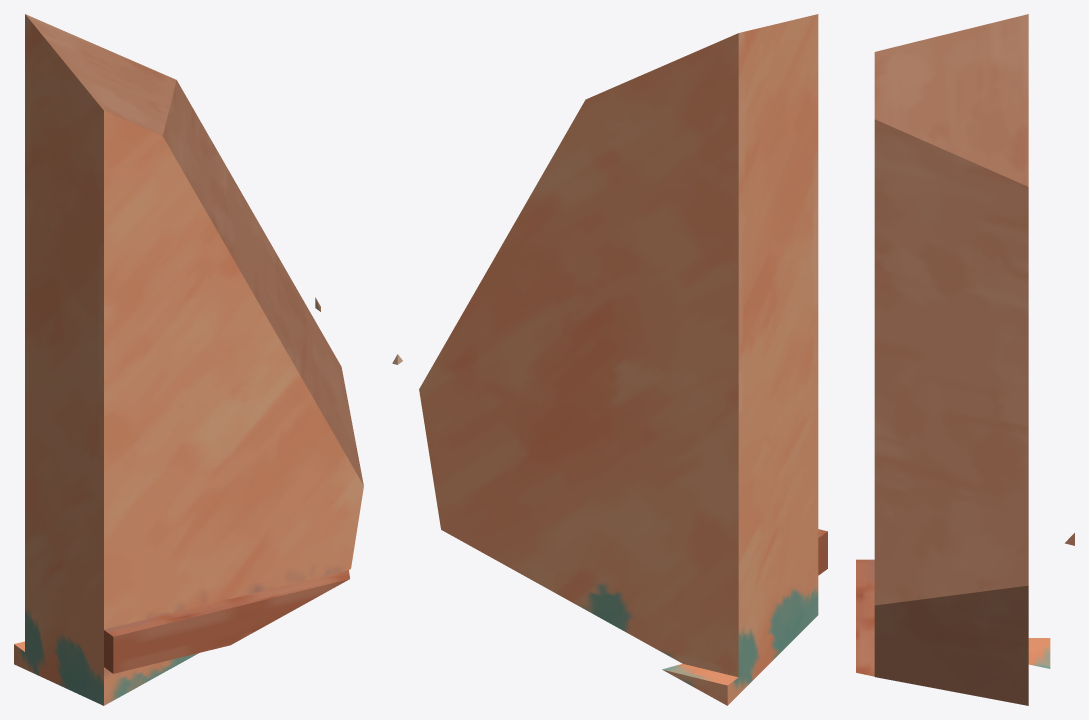
File: wall2_shutter_s05.fbx
3 renders of one model, left to right at view 1: azimuth 30°, elevation 25°; view 2: azimuth 150°, elevation 25°; view 3: azimuth 270°, elevation 25°, orthographic. The views are drawn at different scales.
Parts seen in each view (by area): view 1: wall2_shutter_s05; view 2: wall2_shutter_s05; view 3: wall2_shutter_s05.
Boxes of the visible parts, x1,y1,x2,y2 form: wall2_shutter_s05: (14,14,363,705); wall2_shutter_s05: (392,14,827,705); wall2_shutter_s05: (856,14,1074,705).
Bounding box in the file's own units: 2.34 × 4.61 × 1.42.
